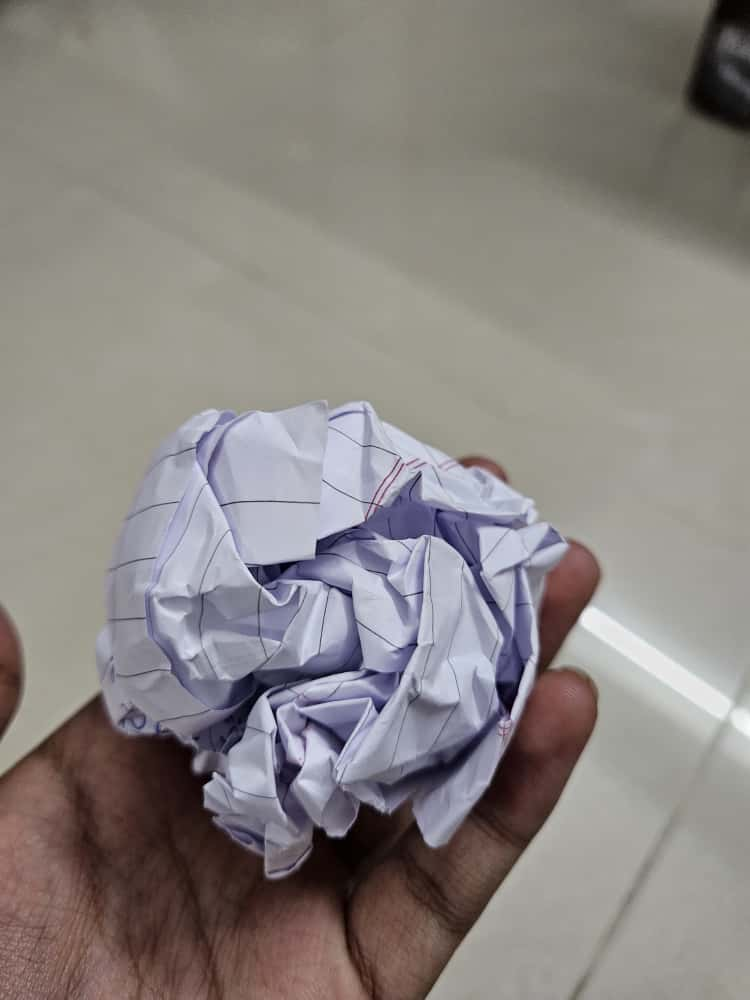dry: (85, 382, 577, 878)
